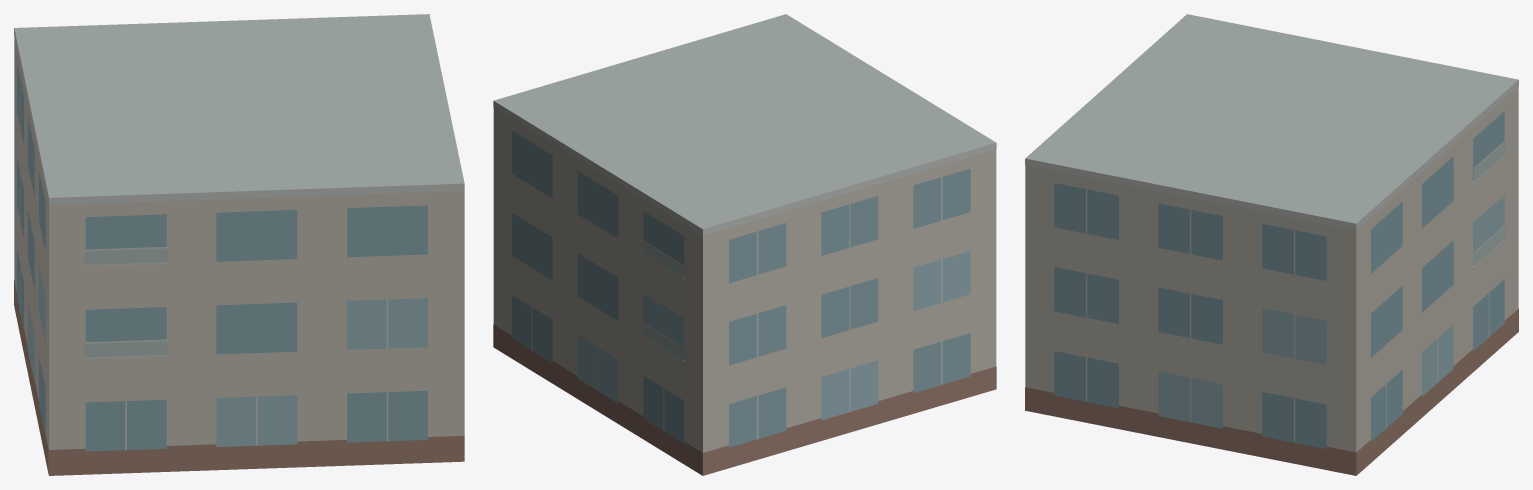
The model's file is survey-upis-32553103.glb.
3 renders of one model, left to right at view 1: azimuth 30°, elevation 25°; view 2: azimuth 150°, elevation 25°; view 3: azimuth 270°, elevation 25°, orthographic. The views are drawn at different scales.
Parts seen in each view (by area): view 1: survey-upis-32553103.tmp; view 2: survey-upis-32553103.tmp; view 3: survey-upis-32553103.tmp.
Boxes of the visible parts, box(x1,y1,x2,y2) form: survey-upis-32553103.tmp: box(14, 14, 464, 475); survey-upis-32553103.tmp: box(493, 14, 996, 475); survey-upis-32553103.tmp: box(1025, 14, 1518, 475).
Size of the model in its own units: 16.33 by 9.15 by 16.24.
